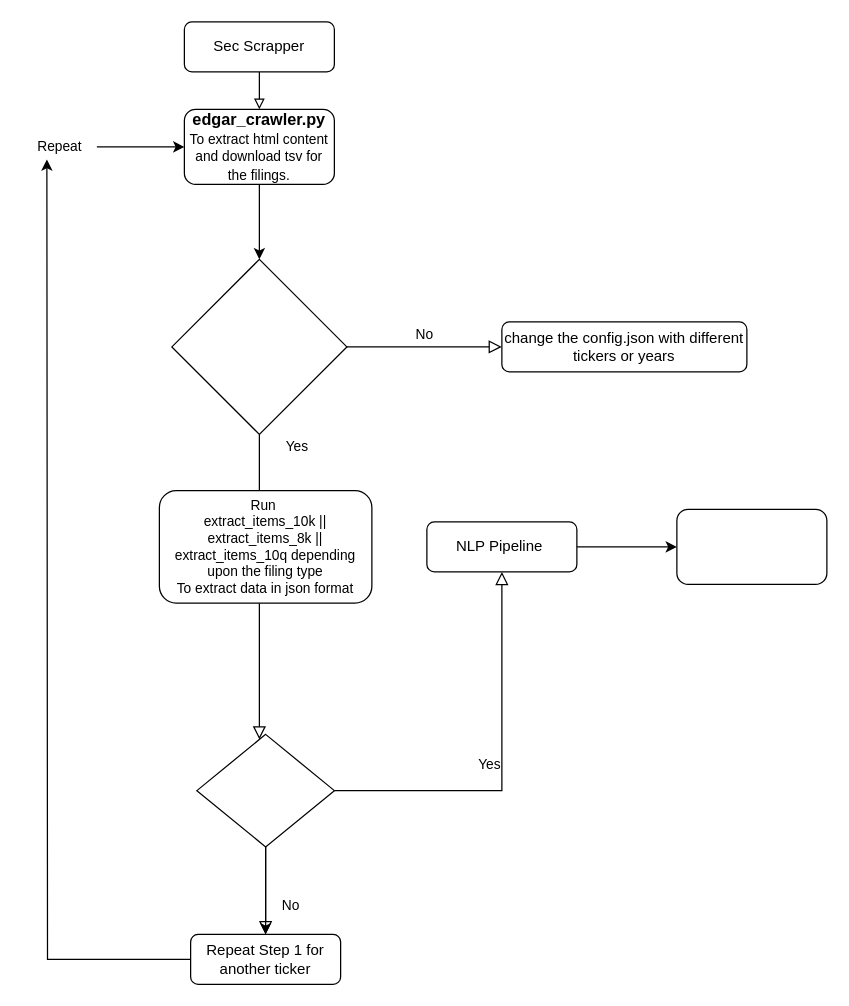
Image size: 849x1006. Some labels were removed from this diagram. The shapes that lost their labels are listed below. From the top down, each one's centre as x and y in pixels, then its label:
point 259,346: Data generated in FILINGS_METADATA?
point 751,546: Run main.py file
point 265,790: Data Extracted?
